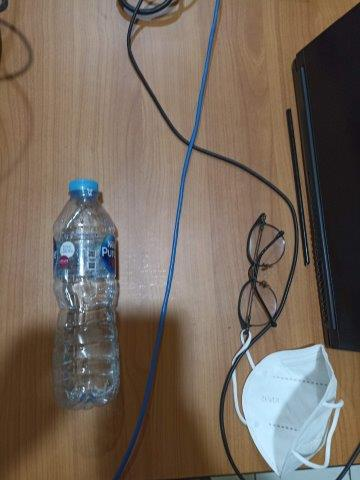botolplastik: (51, 177, 120, 408)
